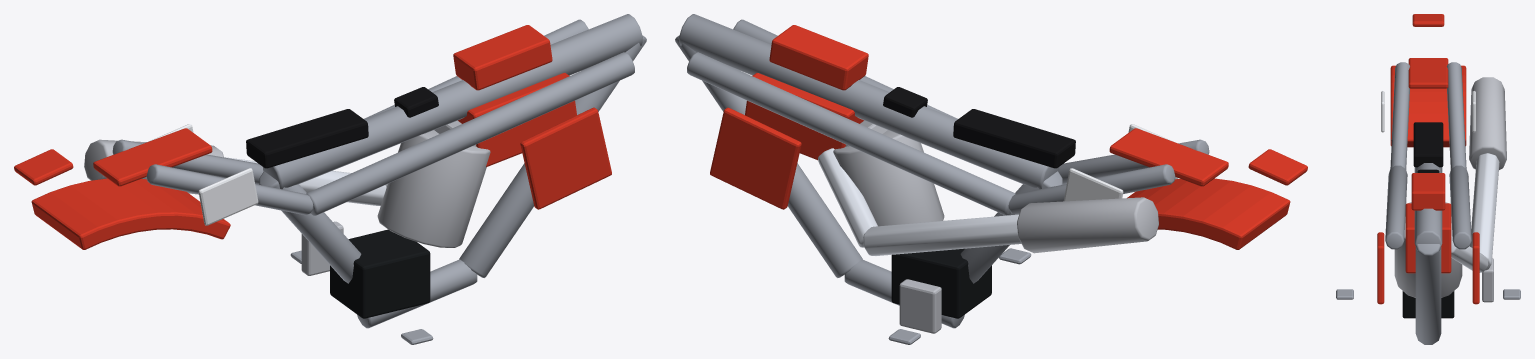
The model's file is bike_frame.obj.
3 renders of one model, left to right at view 1: azimuth 30°, elevation 25°; view 2: azimuth 150°, elevation 25°; view 3: azimuth 270°, elevation 25°, orthographic. The views are drawn at different scales.
Parts seen in each view (by area): view 1: Frame; view 2: Frame; view 3: Frame.
Part boxes in pixels (x1=…): Frame: x1=14, y1=14, x2=646, y2=344; Frame: x1=675, y1=14, x2=1307, y2=344; Frame: x1=1336, y1=14, x2=1520, y2=344.
Bounding box in the file's own units: 1.37 × 0.5314 × 0.465.
